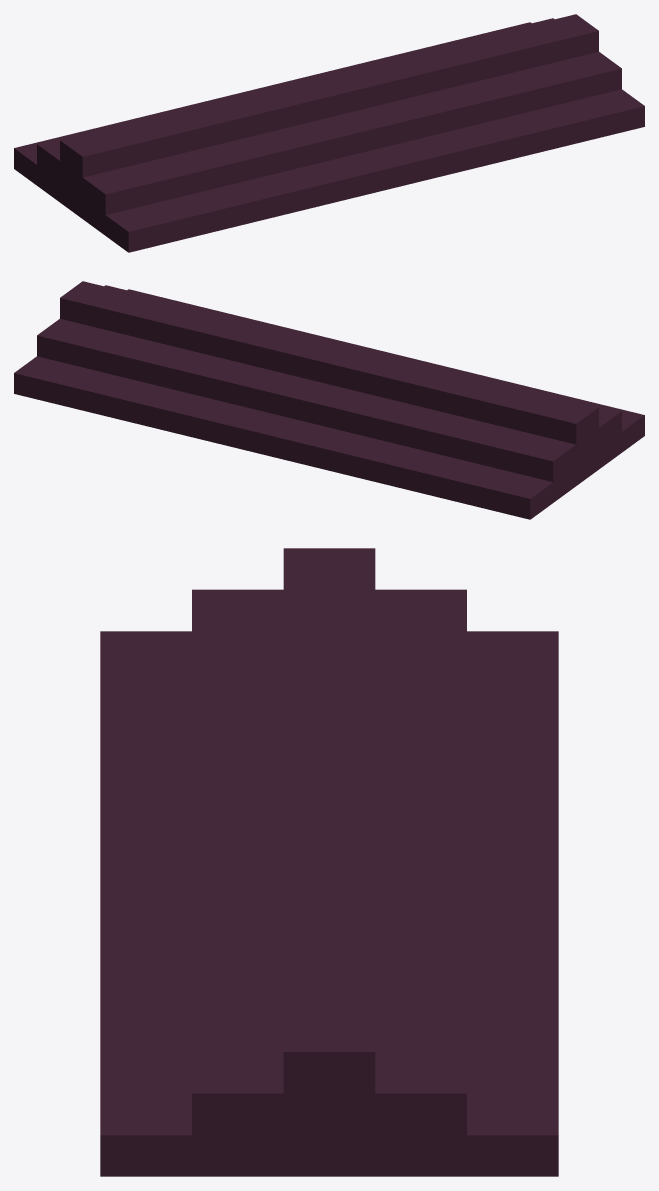
Rendered from tomb_c_b_lid.obj.
The picture shows the model from 3 angles, top to bottom: view 1: azimuth 30°, elevation 25°; view 2: azimuth 150°, elevation 25°; view 3: azimuth 270°, elevation 25°; orthographic projection. The views are drawn at different scales.
Bounding box in the file's own units: 2.6 × 0.3 × 1.
1 material, 1 textured.
